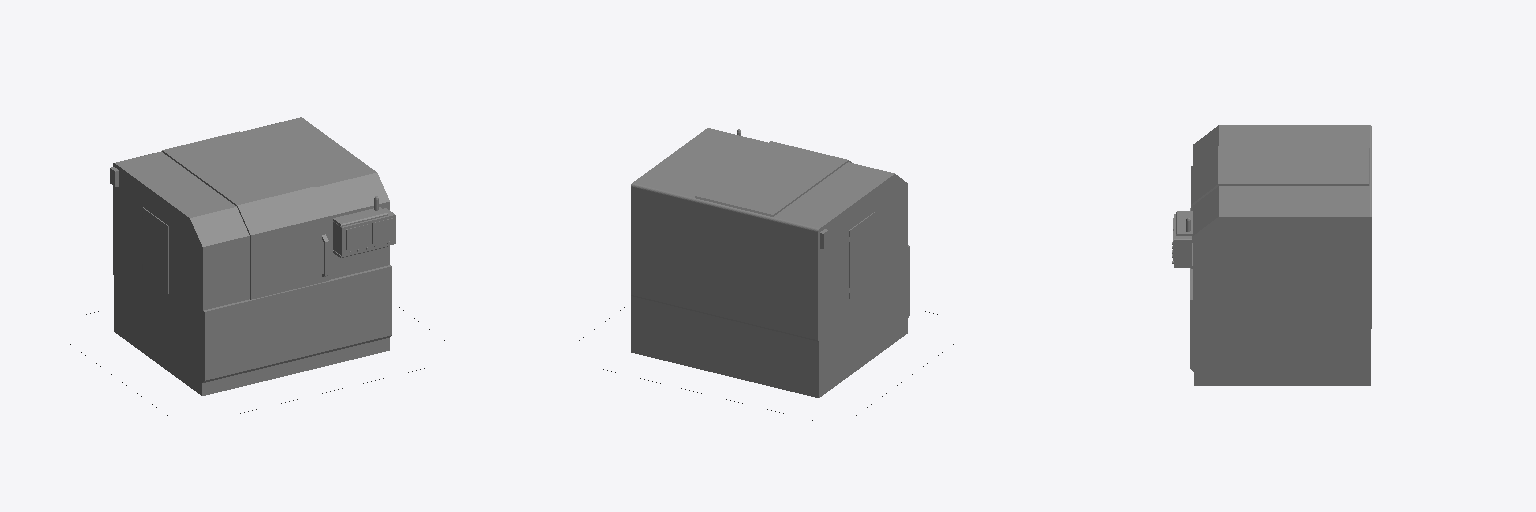
The picture shows the model from 3 angles: view 1: azimuth 30°, elevation 25°; view 2: azimuth 150°, elevation 25°; view 3: azimuth 270°, elevation 25°; orthographic projection.
Parts seen in each view (by area): view 1: shukongjichuang; view 2: shukongjichuang; view 3: shukongjichuang.
Part boxes in pixels (left/top/right/bottom): shukongjichuang: left=70, top=117, right=444, bottom=415; shukongjichuang: left=579, top=128, right=953, bottom=420; shukongjichuang: left=1172, top=125, right=1371, bottom=385.
Bounding box in the file's own units: 344 × 197 × 293.
Materials: 2 (1 with a texture image).